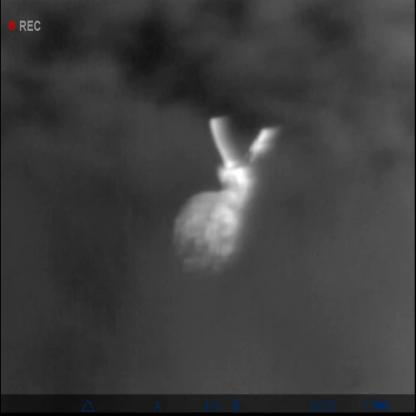rehkitze: (170, 112, 278, 290)
